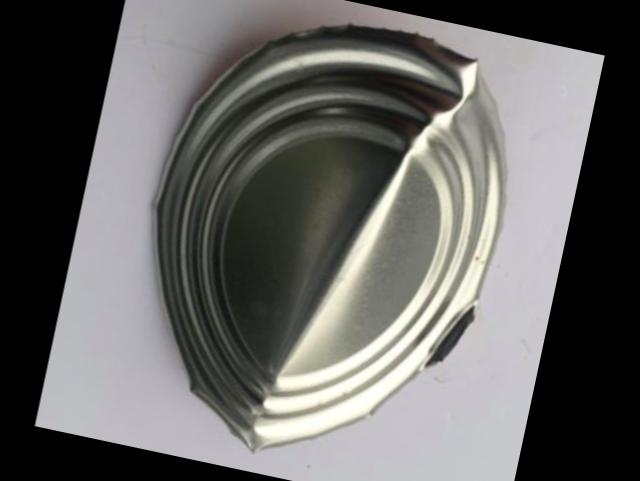metal: (153, 26, 502, 451)
